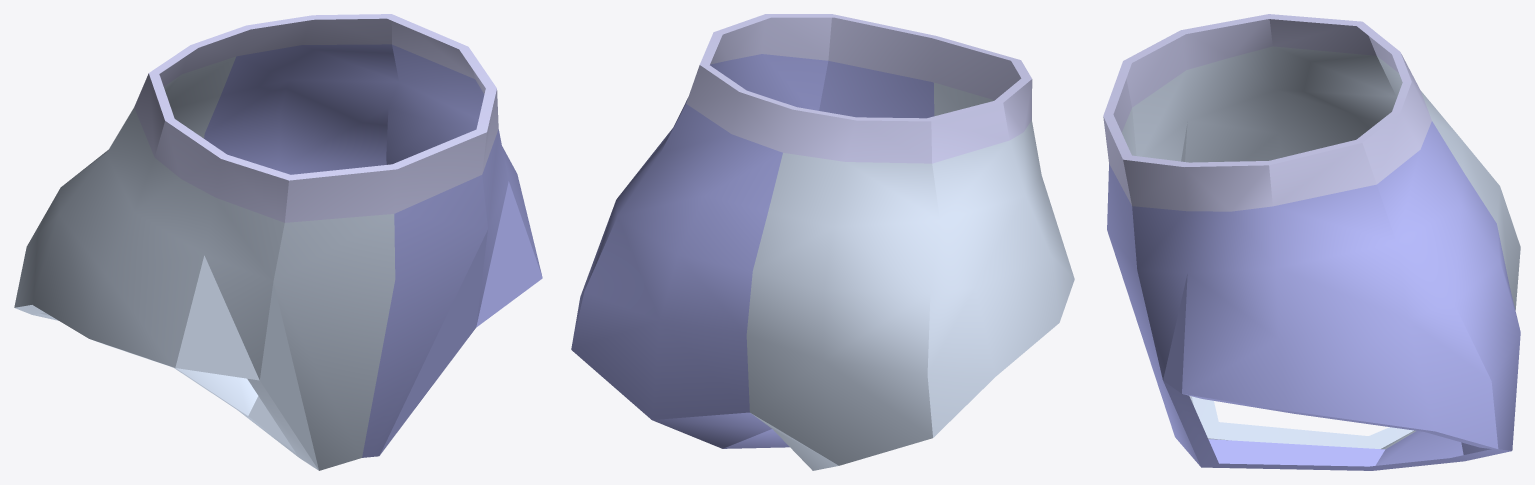
File: BikiniNews.fbx
The picture shows the model from 3 angles, left to right: view 1: azimuth 30°, elevation 25°; view 2: azimuth 150°, elevation 25°; view 3: azimuth 270°, elevation 25°; orthographic projection. The views are drawn at different scales.
Parts seen in each view (by area): view 1: BikiniNews; view 2: BikiniNews; view 3: BikiniNews.
Boxes of the visible parts, x1,y1,x2,y2 form: BikiniNews: [14, 14, 542, 470]; BikiniNews: [571, 14, 1074, 470]; BikiniNews: [1103, 14, 1520, 470].
Size of the model in its own units: 32.69 by 26.58 by 26.43.
